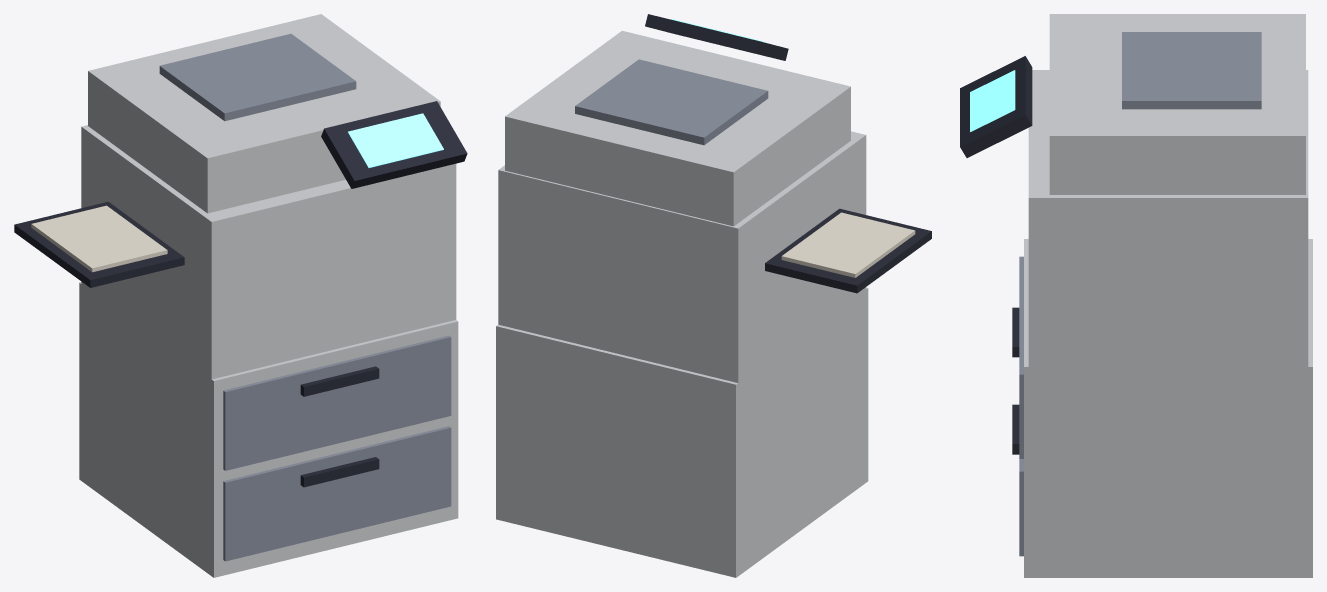
The picture shows the model from 3 angles, left to right: view 1: azimuth 30°, elevation 25°; view 2: azimuth 150°, elevation 25°; view 3: azimuth 270°, elevation 25°; orthographic projection. The views are drawn at different scales.
Visible parts, largest first — view 1: white, locker_grey, plastic_dark, paper, pump_screen; view 2: white, locker_grey, plastic_dark, paper; view 3: white, locker_grey, plastic_dark, pump_screen.
Part boxes in pixels (box(x1,y1,x2,y2)): white: box(79, 14, 458, 577); locker_grey: box(159, 33, 451, 561); plastic_dark: box(14, 101, 467, 487); paper: box(31, 205, 167, 272); pump_screen: box(348, 113, 443, 167); white: box(496, 30, 868, 577); locker_grey: box(575, 59, 768, 145); plastic_dark: box(645, 14, 931, 293); paper: box(781, 212, 915, 277); white: box(1024, 14, 1312, 577); locker_grey: box(1019, 32, 1261, 556); plastic_dark: box(960, 56, 1032, 454); pump_screen: box(970, 70, 1015, 131).
Bounding box in the file's own units: 0.9 × 1.07 × 0.7574.
